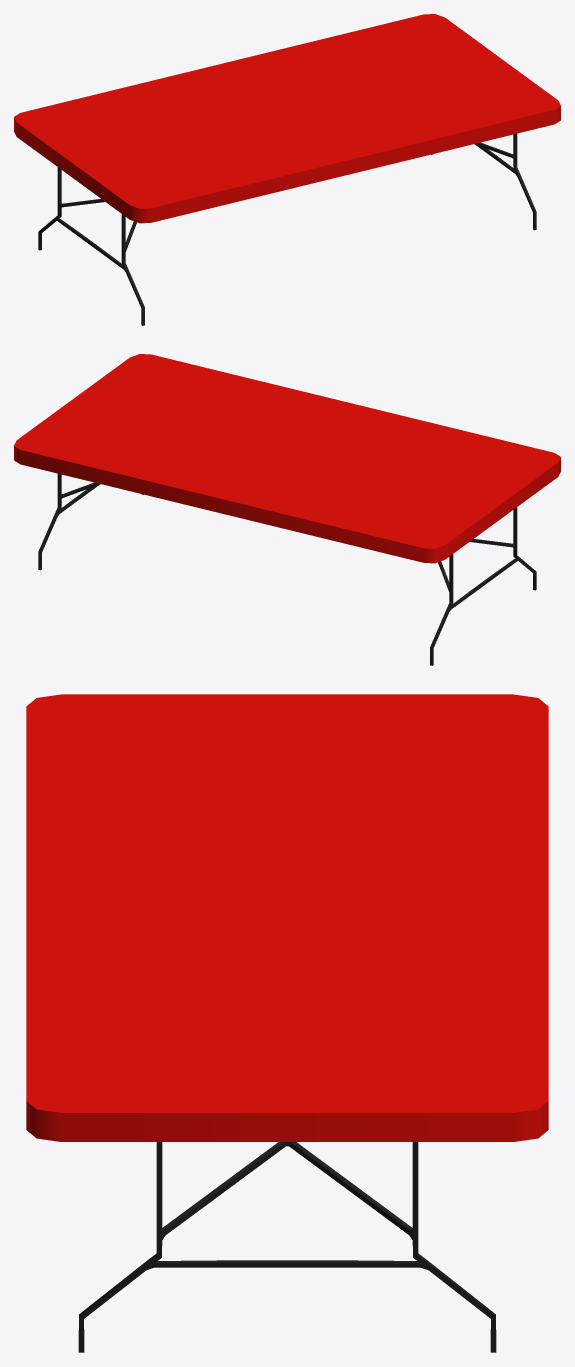
File: MesaGrande.fbx
3 renders of one model, top to bottom at view 1: azimuth 30°, elevation 25°; view 2: azimuth 150°, elevation 25°; view 3: azimuth 270°, elevation 25°, orthographic. The views are drawn at different scales.
Visible parts, largest first — view 1: MesaBig2.006; view 2: MesaBig2.006; view 3: MesaBig2.006.
Boxes of the visible parts, x1,y1,x2,y2 form: MesaBig2.006: (14,14,560,325); MesaBig2.006: (14,354,560,665); MesaBig2.006: (26,694,548,1352).
Size of the model in its own units: 280 by 80 by 148.
